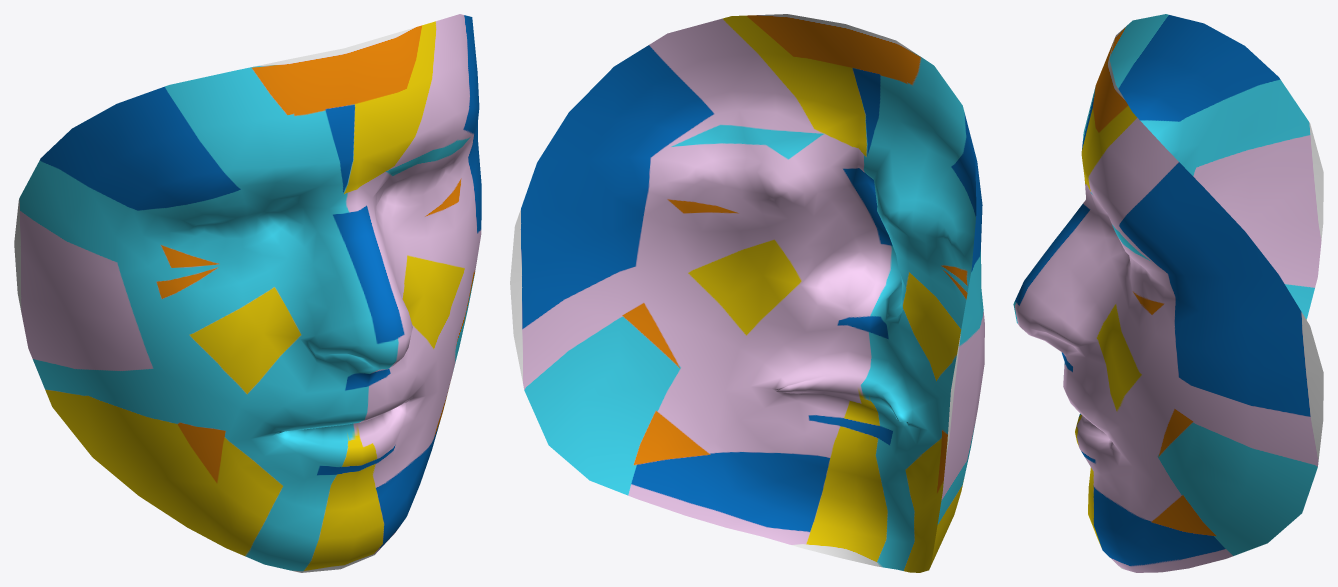
File: mask.obj
3 renders of one model, left to right at view 1: azimuth 30°, elevation 25°; view 2: azimuth 150°, elevation 25°; view 3: azimuth 270°, elevation 25°, orthographic. The views are drawn at different scales.
Parts seen in each view (by area): view 1: default; view 2: default; view 3: default.
Boxes of the visible parts, x1=… form: default: x1=14, y1=14, x2=481, y2=572; default: x1=510, y1=14, x2=984, y2=572; default: x1=1013, y1=14, x2=1323, y2=572.
Bounding box in the file's own units: 15.49 × 17.67 × 10.02.
